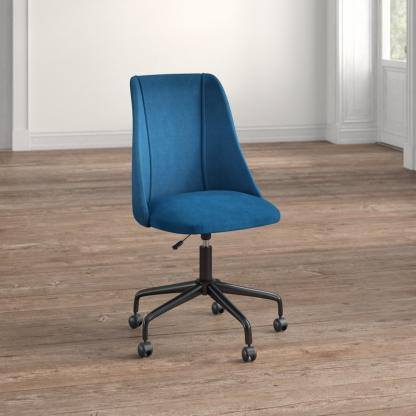chair: (99, 62, 293, 366)
